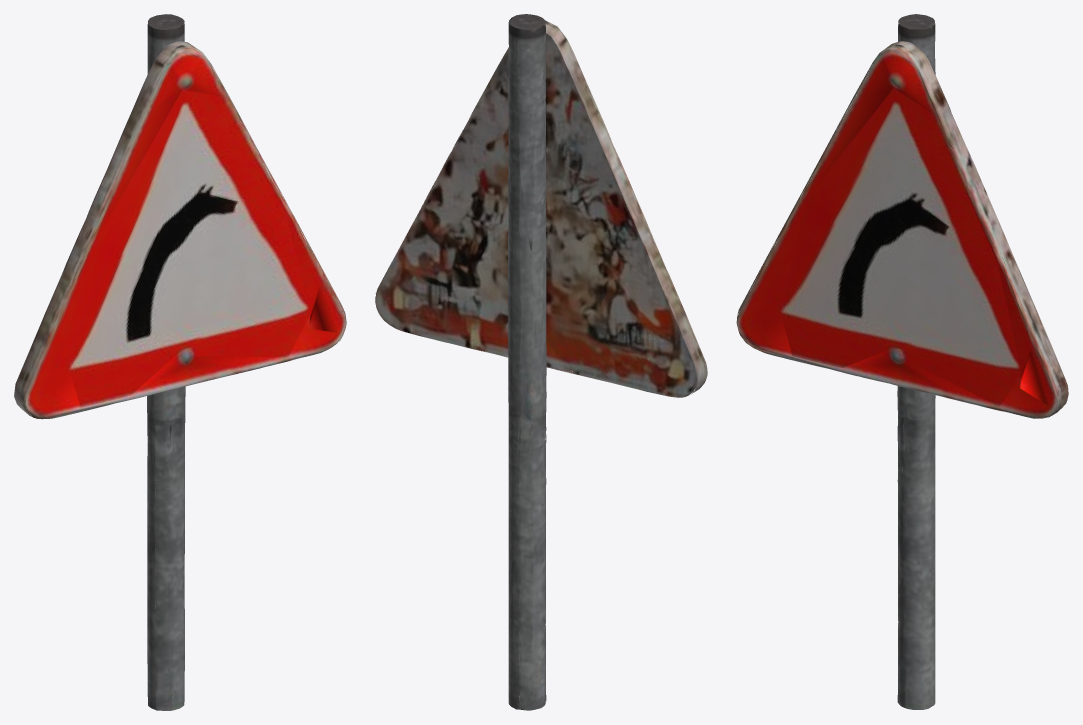
The model's file is stadt_schild_kurve.glb.
3 views of the same model, side by side, from view 1: azimuth 30°, elevation 25°; view 2: azimuth 150°, elevation 25°; view 3: azimuth 330°, elevation 25° (orthographic).
Parts seen in each view (by area): view 1: Prop; view 2: Prop; view 3: Prop.
Part boxes in pixels (bbox=[...]): Prop: bbox=[14, 14, 346, 710]; Prop: bbox=[375, 14, 707, 710]; Prop: bbox=[736, 14, 1068, 709].
Bounding box in the file's own units: 0.4975 × 1 × 0.0802.
1 material, 1 textured.
